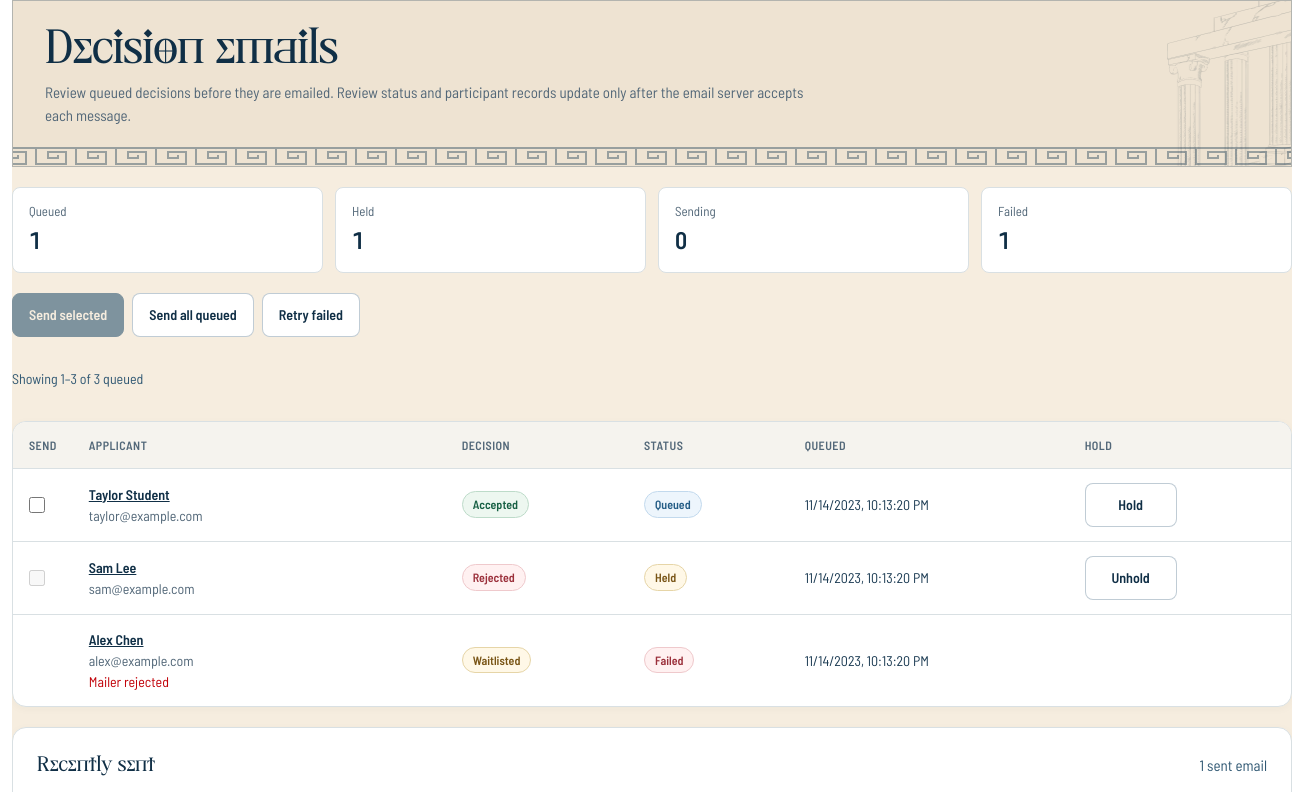
Test: DecisionEmailQueuePage › retries failed rows
Click the button "Retry failed". click: (311, 314)
box: [262, 292, 360, 336]
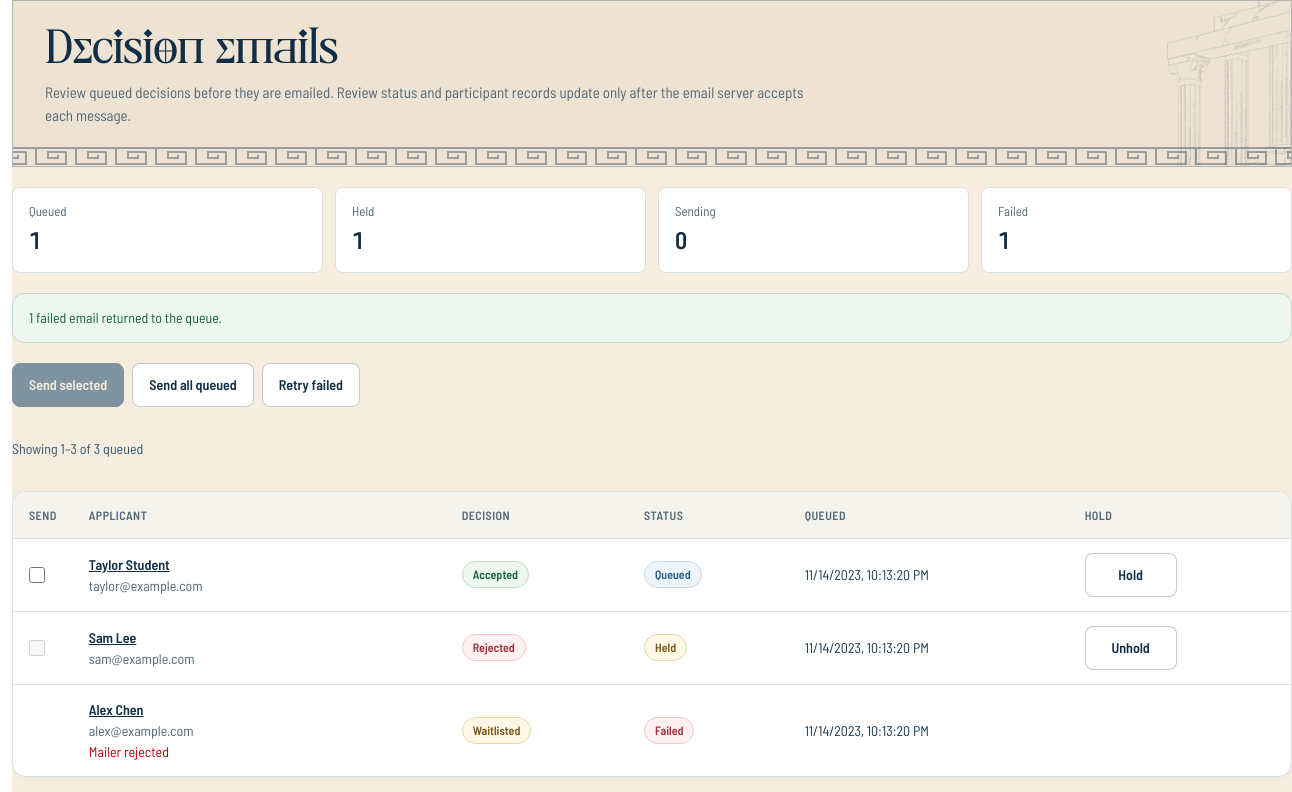
Now the text "returned to the queue" is shown, box [29, 309, 222, 326]
